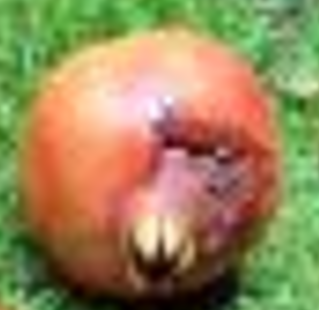pomegranate_C: (17, 26, 282, 302)
